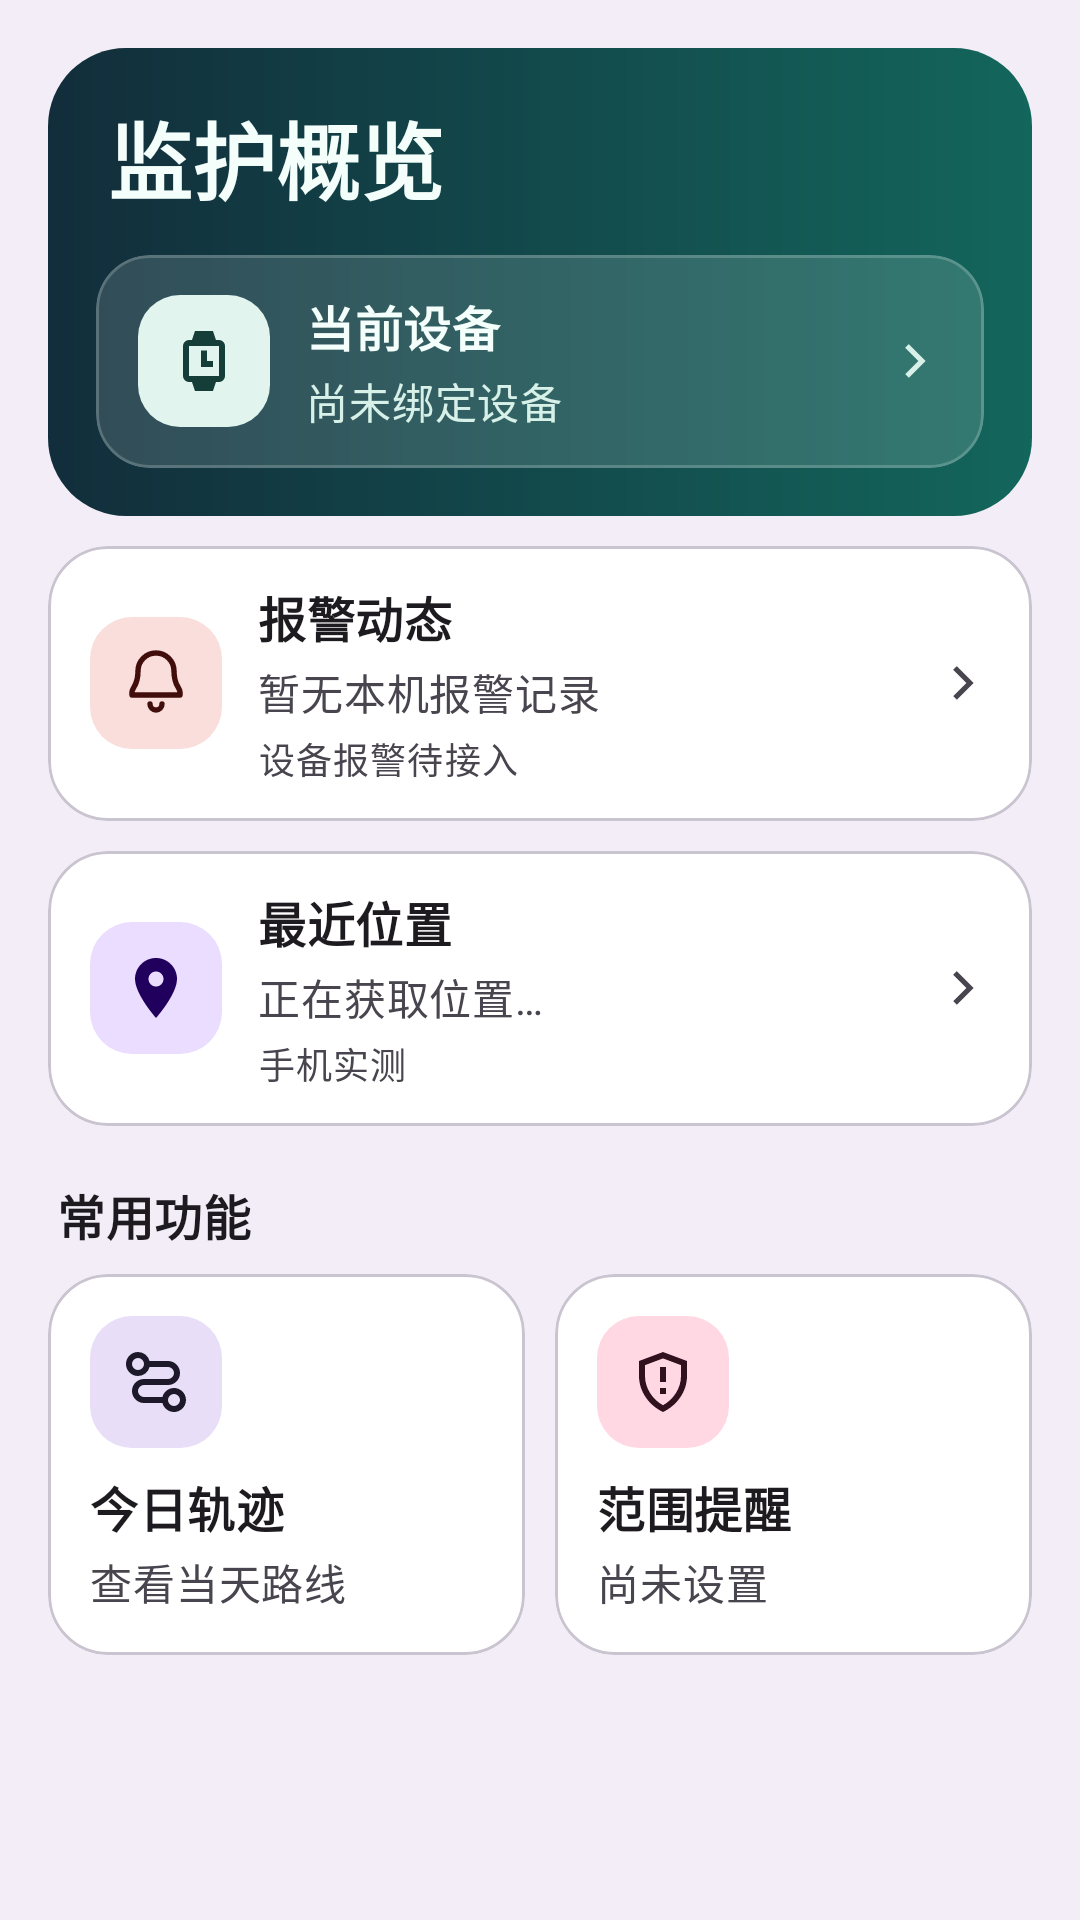

Where icons sit on this 1080px×1920px app screen, as (x1, y1, x2, y2):
home bell: (90, 617, 222, 749)
location pin: (90, 922, 222, 1054)
location track: (90, 1316, 222, 1448)
profile device: (138, 295, 270, 427)
